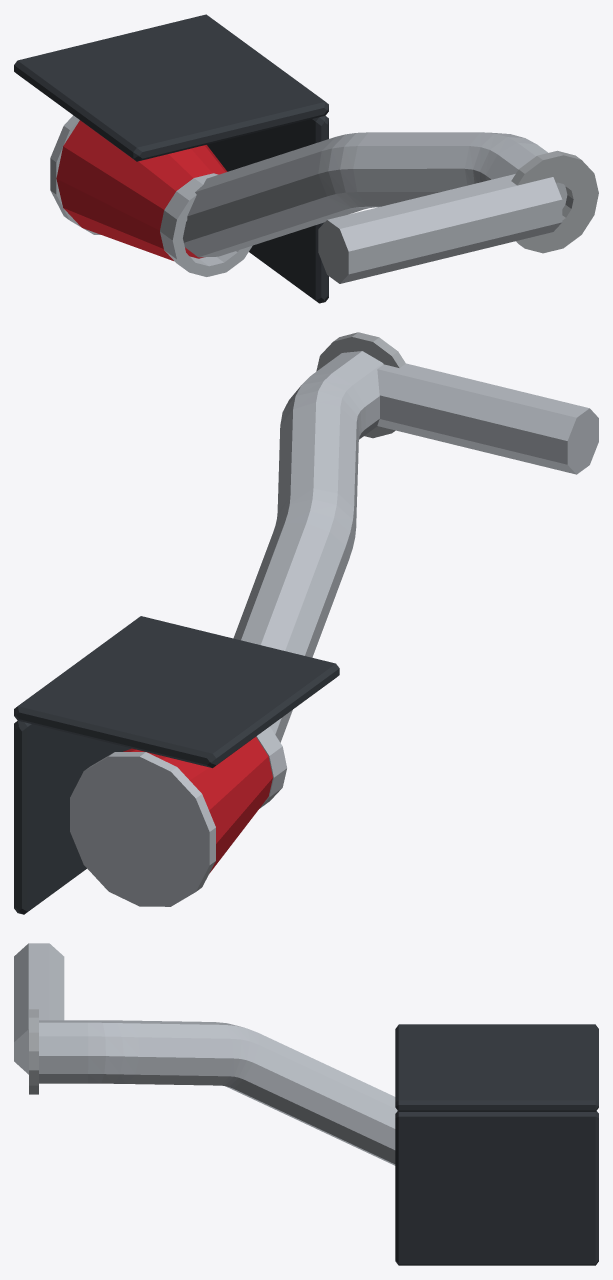
File: apex_v8.glb
The picture shows the model from 3 angles, top to bottom: view 1: azimuth 30°, elevation 25°; view 2: azimuth 150°, elevation 25°; view 3: azimuth 270°, elevation 25°; orthographic projection. The views are drawn at different scales.
Visible parts, largest first — view 1: model; view 2: model; view 3: model.
Part boxes in pixels (<box>): model: <box>14,14,598,303</box>; model: <box>14,332,598,914</box>; model: <box>14,943,598,1265</box>.
Size of the model in its own units: 0.2913 by 0.33 by 0.6896.
Materials: 2 (1 with a texture image).
